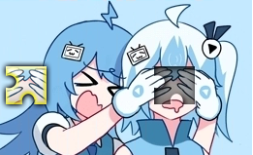gap: (154, 66, 195, 104)
